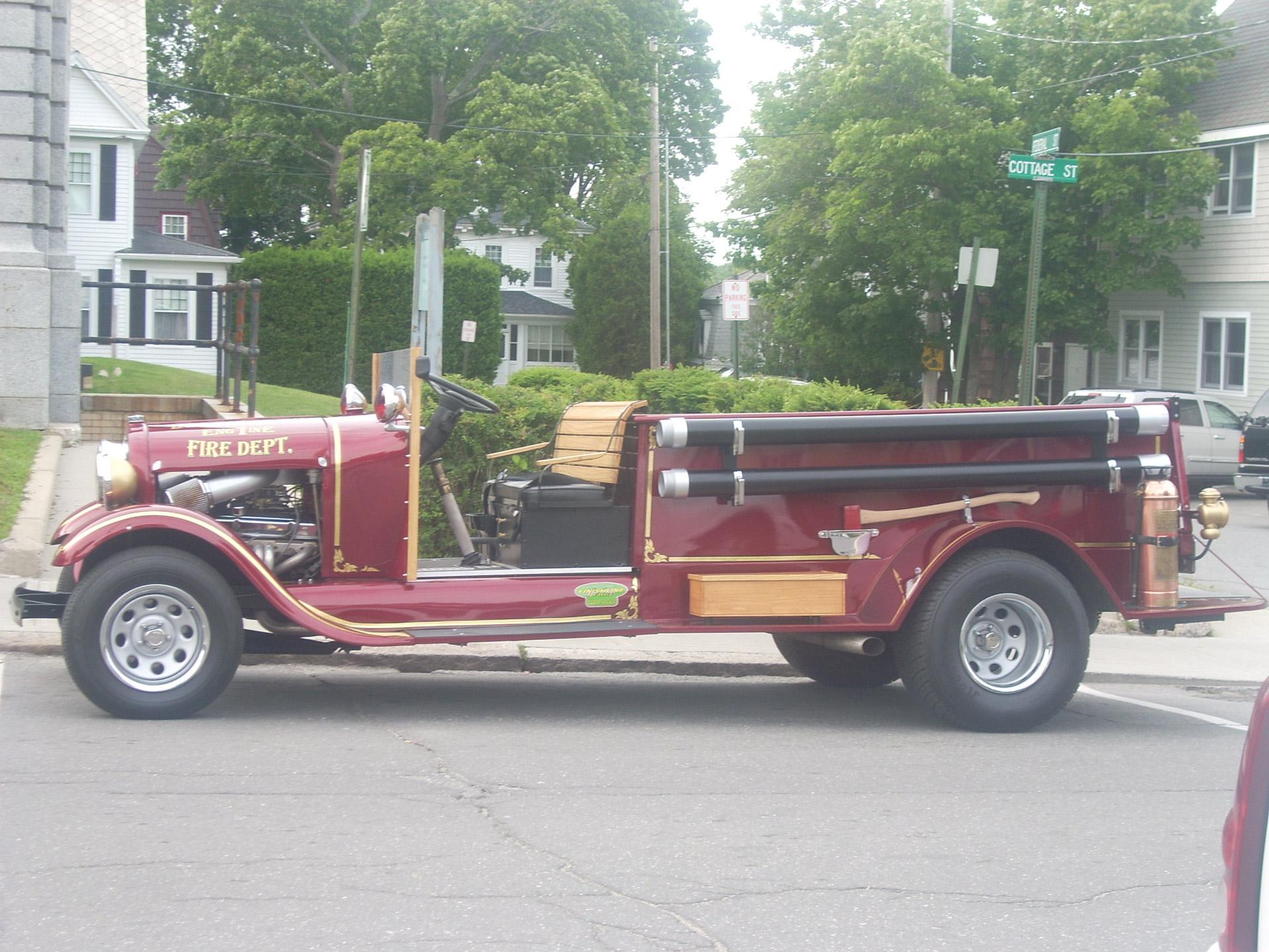Fire-engine: (11, 349, 1266, 731)
